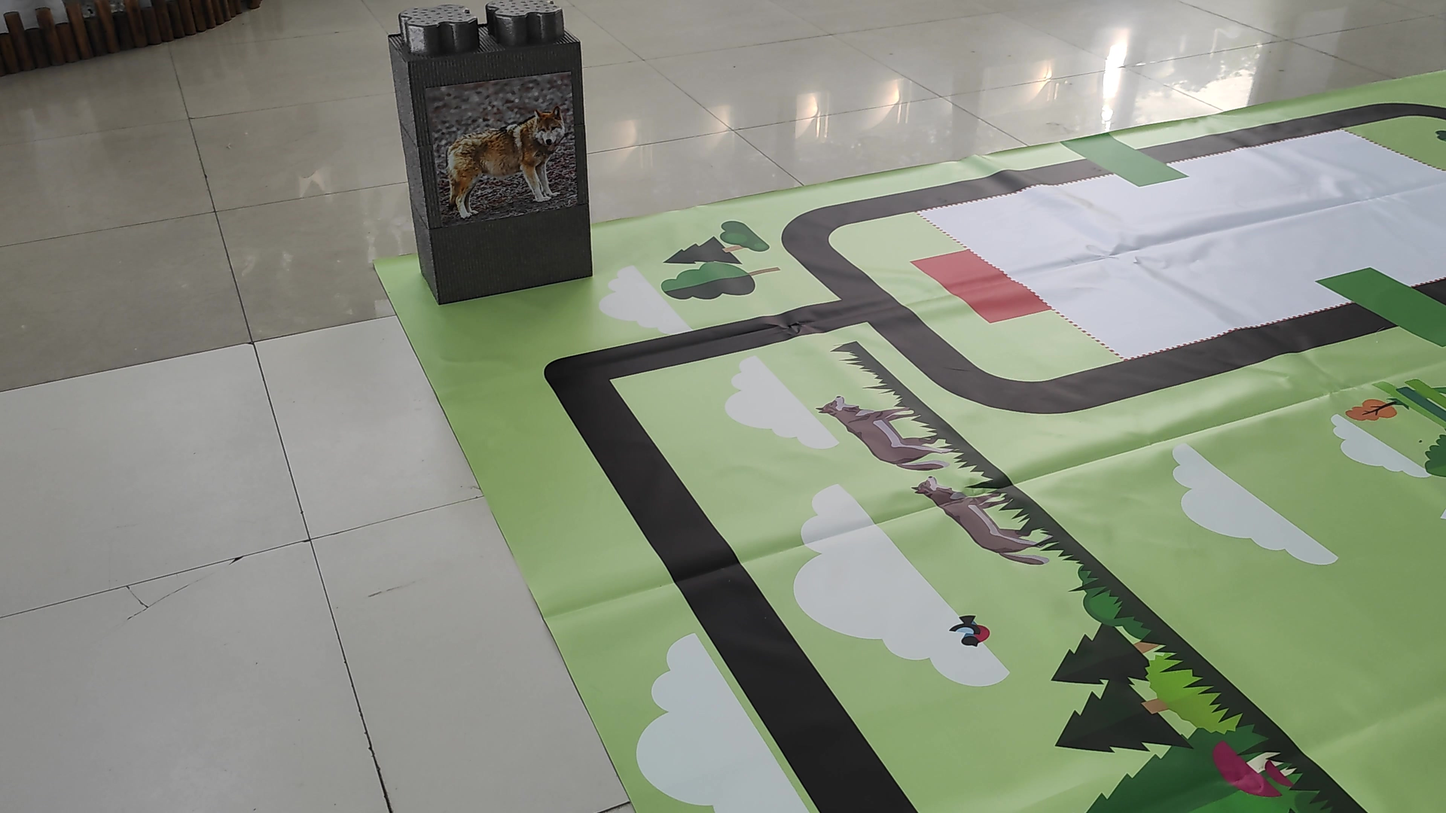wolf: (436, 103, 582, 224)
